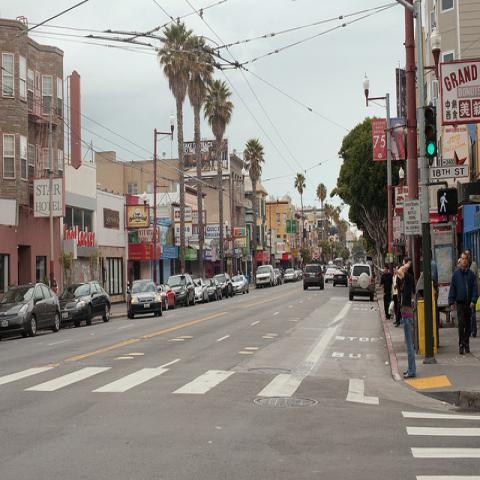car: (1, 269, 347, 342), (57, 277, 112, 327), (126, 279, 162, 318), (167, 273, 195, 309), (349, 263, 374, 301), (256, 264, 275, 288), (205, 278, 224, 301), (216, 272, 232, 298), (231, 275, 249, 294), (274, 268, 282, 284)
